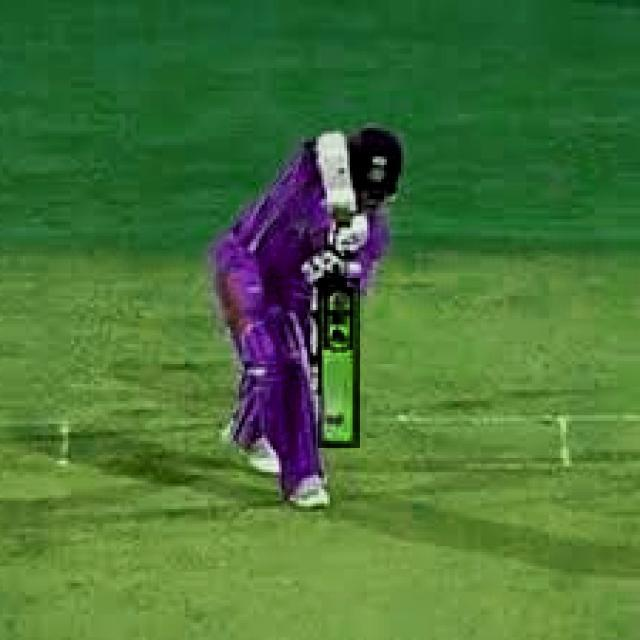bat: (315, 278, 362, 447)
toe: (304, 419, 363, 458)
